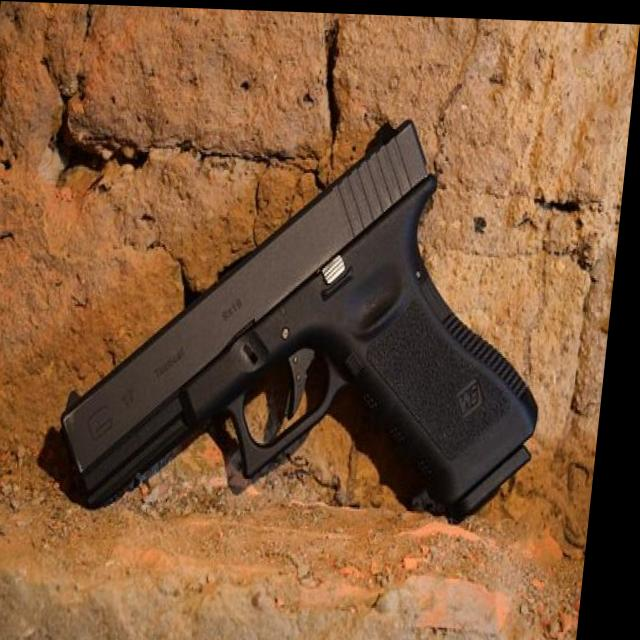handgun: (60, 100, 601, 543)
